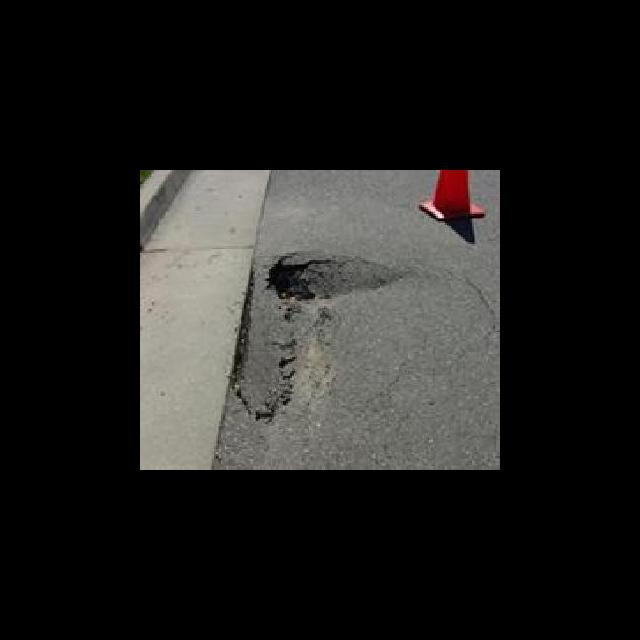lubang_kecil: (262, 245, 408, 308)
